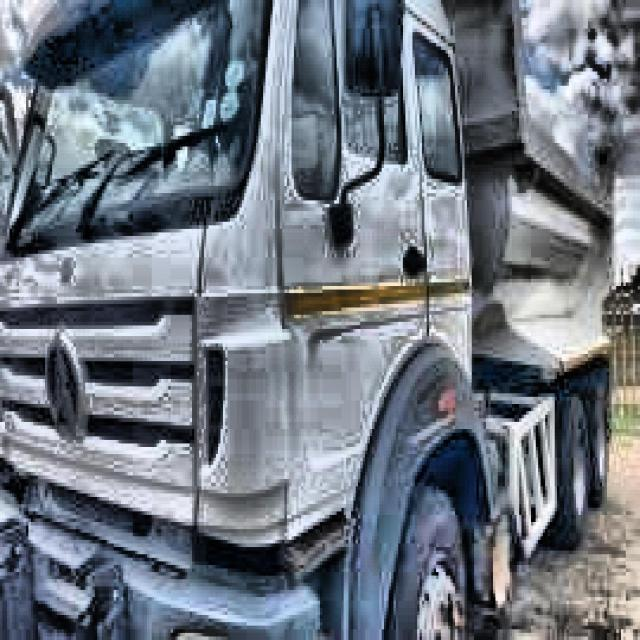dump_truck: (2, 0, 620, 640)
